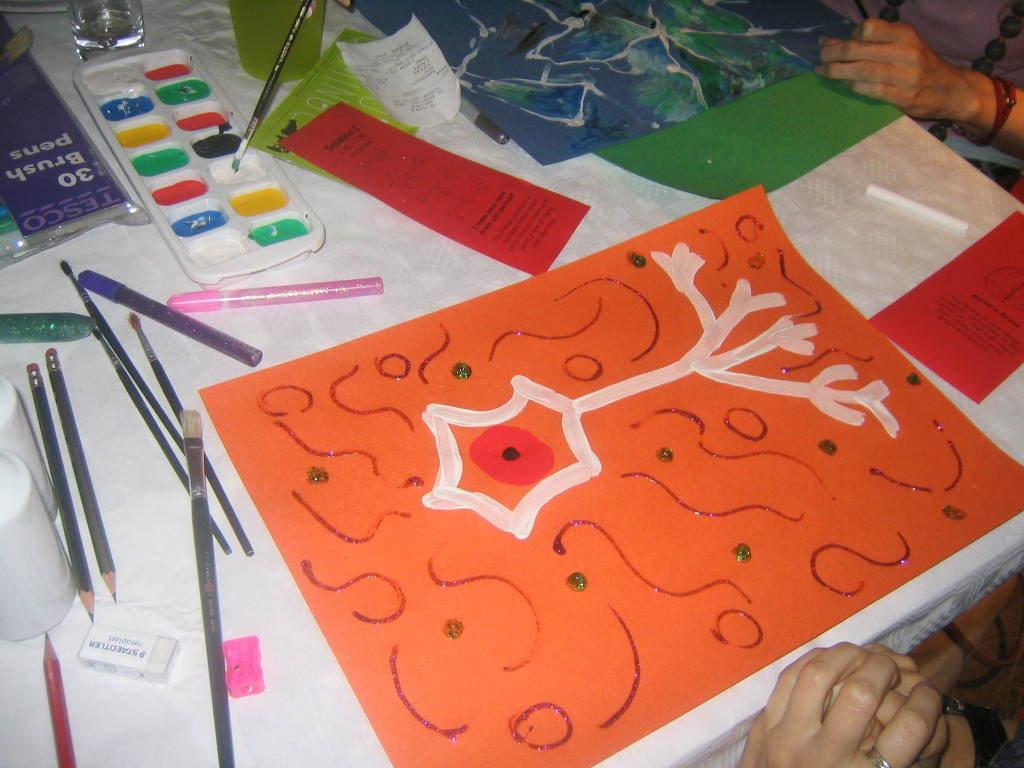pen: (78, 266, 265, 365), (159, 276, 390, 309)
